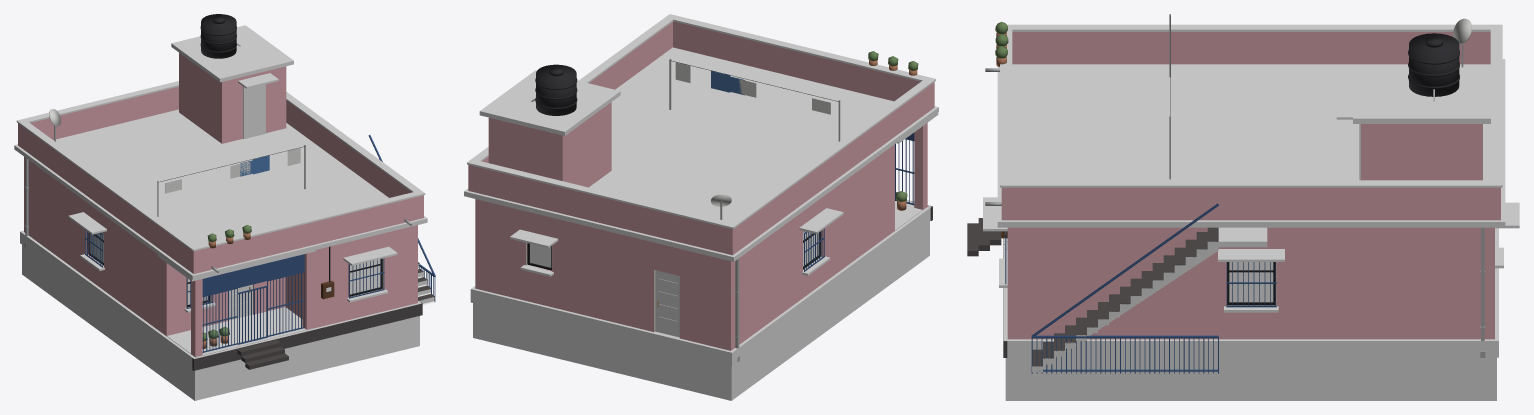
The model's file is tn_house_9x12_1.glb.
3 views of the same model, side by side, from view 1: azimuth 30°, elevation 25°; view 2: azimuth 150°, elevation 25°; view 3: azimuth 270°, elevation 25° (orthographic). The views are drawn at different scales.
Parts seen in each view (by area): view 1: tn_house_9x12_1; view 2: tn_house_9x12_1; view 3: tn_house_9x12_1.
Part boxes in pixels (x1=…): tn_house_9x12_1: x1=14, y1=14, x2=435, y2=400; tn_house_9x12_1: x1=464, y1=14, x2=938, y2=400; tn_house_9x12_1: x1=967, y1=14, x2=1519, y2=400.
Size of the model in its own units: 10.67 by 8.85 by 13.61.
